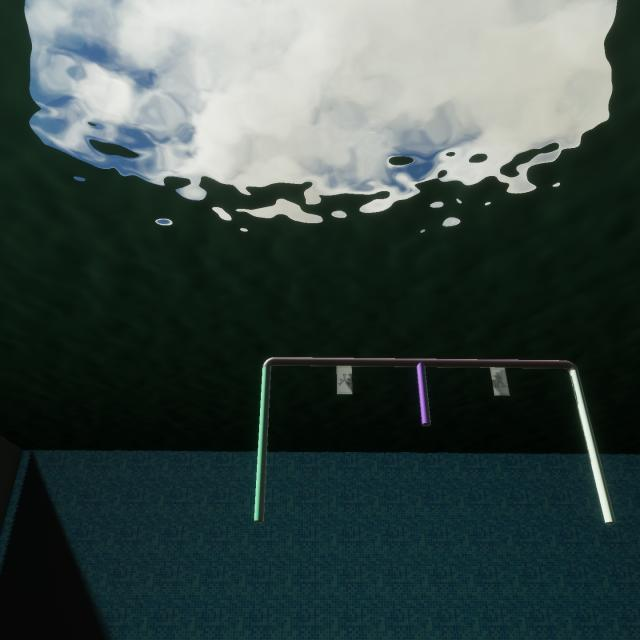abydos: (337, 373, 352, 387)
earth: (492, 373, 508, 392)
gate: (252, 352, 616, 525)
